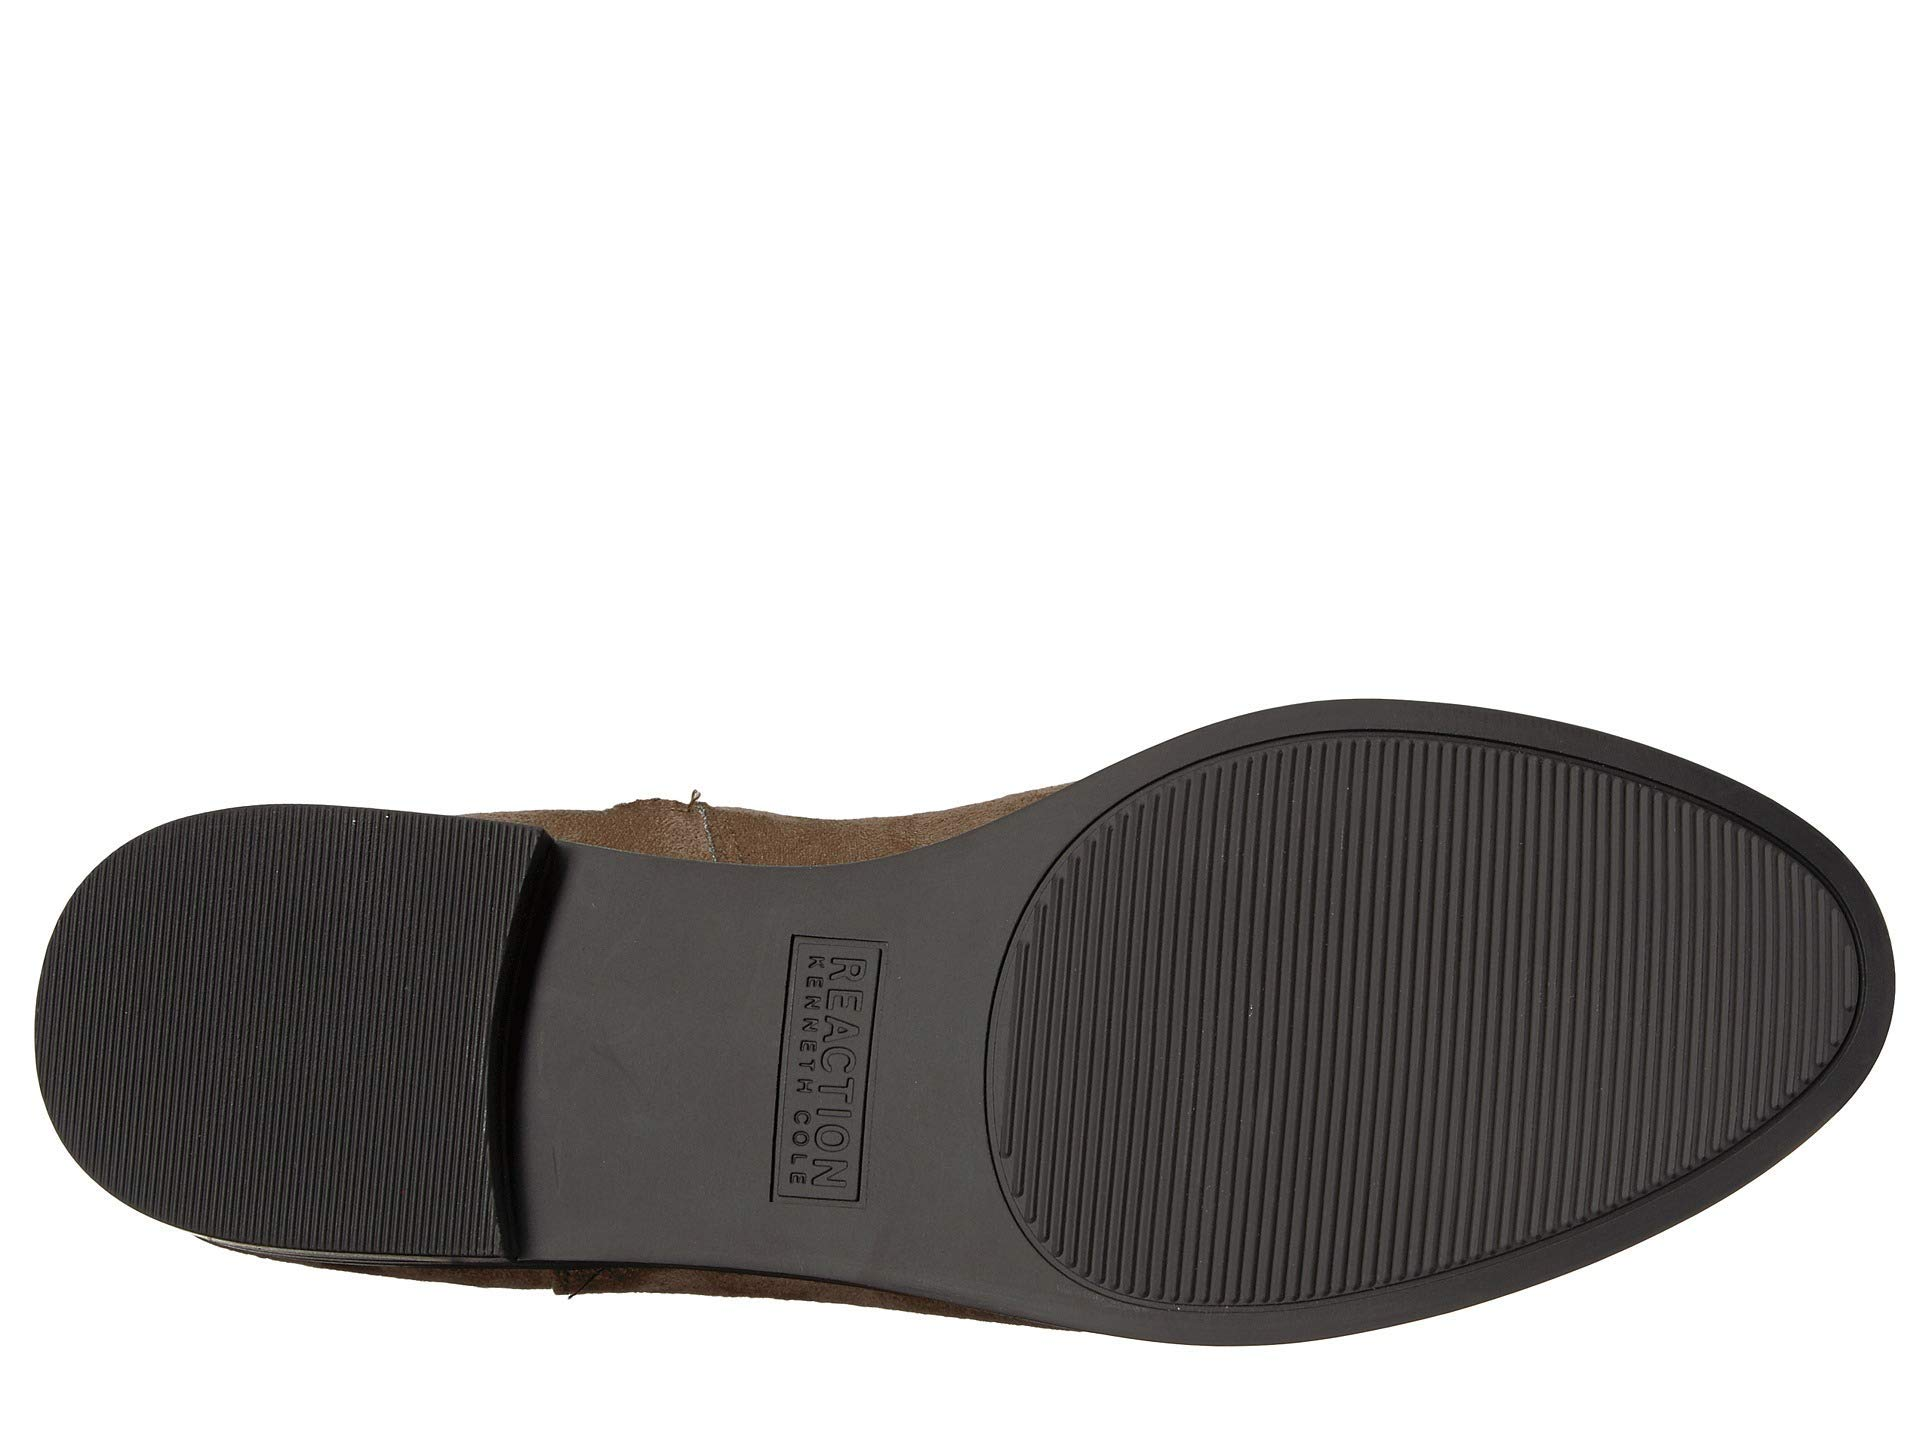line: (1113, 850, 1488, 1240), (1504, 855, 1782, 1109)
